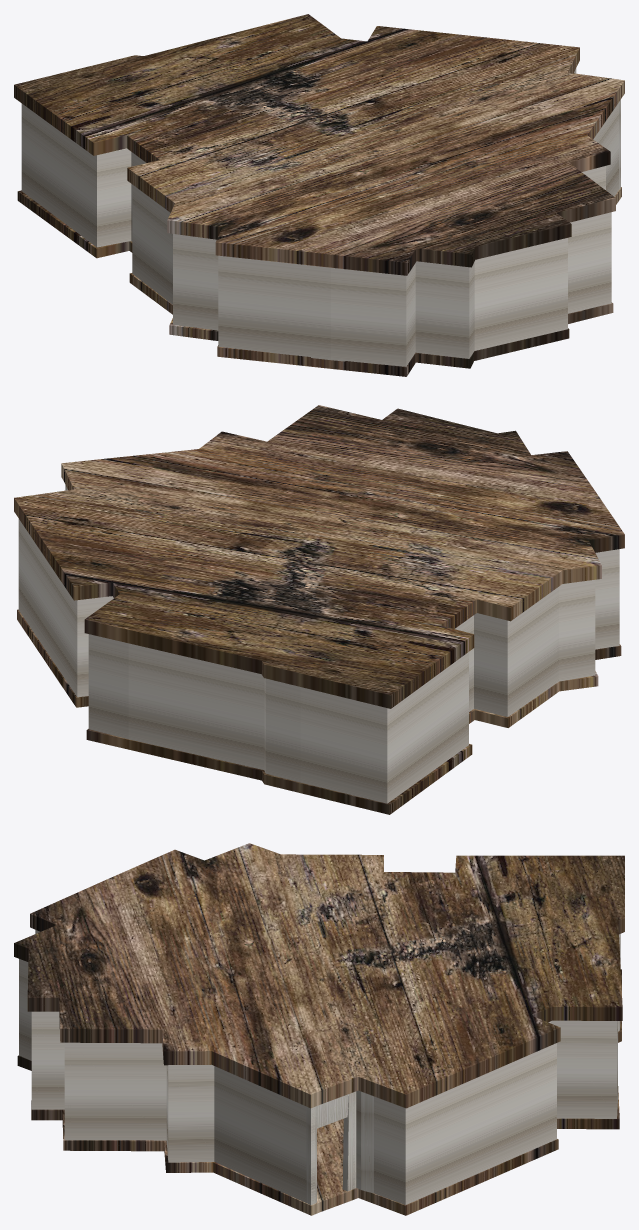
The model's file is Escenario.fbx.
The picture shows the model from 3 angles, top to bottom: view 1: azimuth 30°, elevation 25°; view 2: azimuth 150°, elevation 25°; view 3: azimuth 270°, elevation 25°; orthographic projection. The views are drawn at different scales.
Parts seen in each view (by area): view 1: Techo, Cube, Suelo; view 2: Techo, Cube, Suelo; view 3: Techo, Cube, Suelo.
Boxes of the visible parts, left/top/right/bottom form: Techo: left=14, top=14, right=624, bottom=275; Cube: left=21, top=68, right=620, bottom=366; Suelo: left=17, top=187, right=621, bottom=376; Techo: left=14, top=405, right=624, bottom=708; Cube: left=18, top=485, right=619, bottom=803; Suelo: left=17, top=609, right=621, bottom=814; Techo: left=14, top=843, right=624, bottom=1108; Cube: left=19, top=930, right=620, bottom=1204; Suelo: left=17, top=969, right=621, bottom=1215.
Bounding box in the file's own units: 3256 × 743 × 3343.
Materials: 3 (3 with a texture image).
